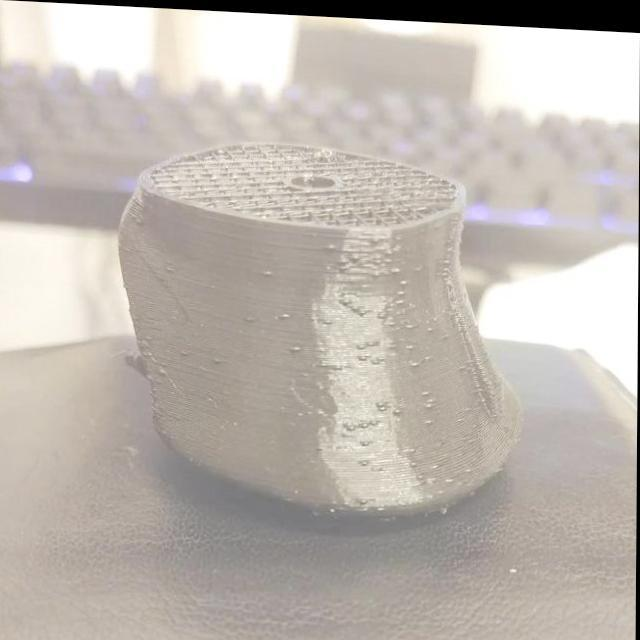zits: (212, 349, 230, 365), (353, 300, 372, 314), (276, 303, 292, 319), (372, 394, 388, 409), (386, 260, 403, 274), (390, 402, 406, 416), (324, 238, 340, 251), (352, 350, 372, 360), (424, 392, 438, 406), (178, 345, 194, 357), (360, 450, 372, 466), (157, 362, 170, 376), (368, 333, 382, 346), (370, 411, 384, 424), (348, 249, 362, 262), (408, 352, 421, 366), (407, 454, 422, 466), (421, 381, 434, 394), (262, 263, 276, 275), (374, 348, 386, 362), (421, 413, 436, 424), (352, 338, 368, 348), (442, 470, 458, 480), (363, 433, 376, 445), (340, 292, 353, 304), (244, 311, 258, 322), (462, 460, 477, 470), (415, 467, 428, 478), (360, 414, 372, 425), (394, 283, 406, 294), (346, 420, 359, 430), (422, 320, 436, 329), (406, 336, 417, 347), (292, 340, 302, 352), (386, 315, 398, 325), (404, 316, 416, 325), (399, 274, 409, 284), (395, 294, 406, 302)
